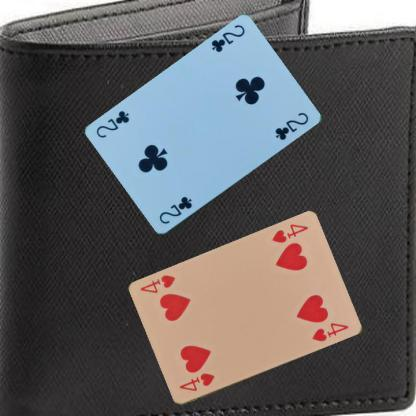2c: (156, 193, 193, 226), (208, 22, 246, 54)
4h: (269, 221, 309, 245), (176, 370, 216, 393)
